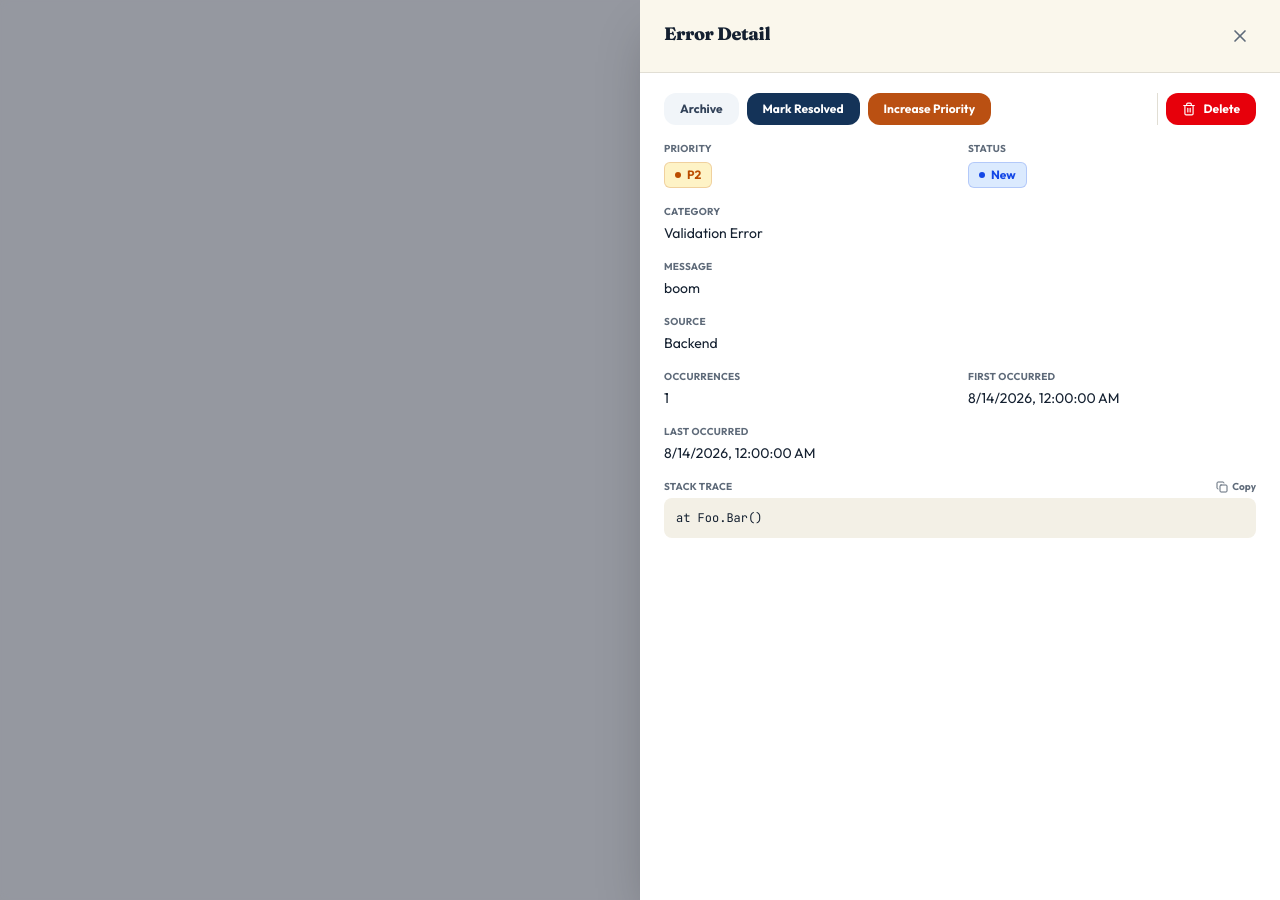
Test case: ErrorDetailPanel › shows an inline error and leaves the detail intact when an action fails
Check: the text "boom" is shown, box [664, 279, 700, 297]
Click the button "Archive" at (701, 109), box [664, 93, 738, 125]
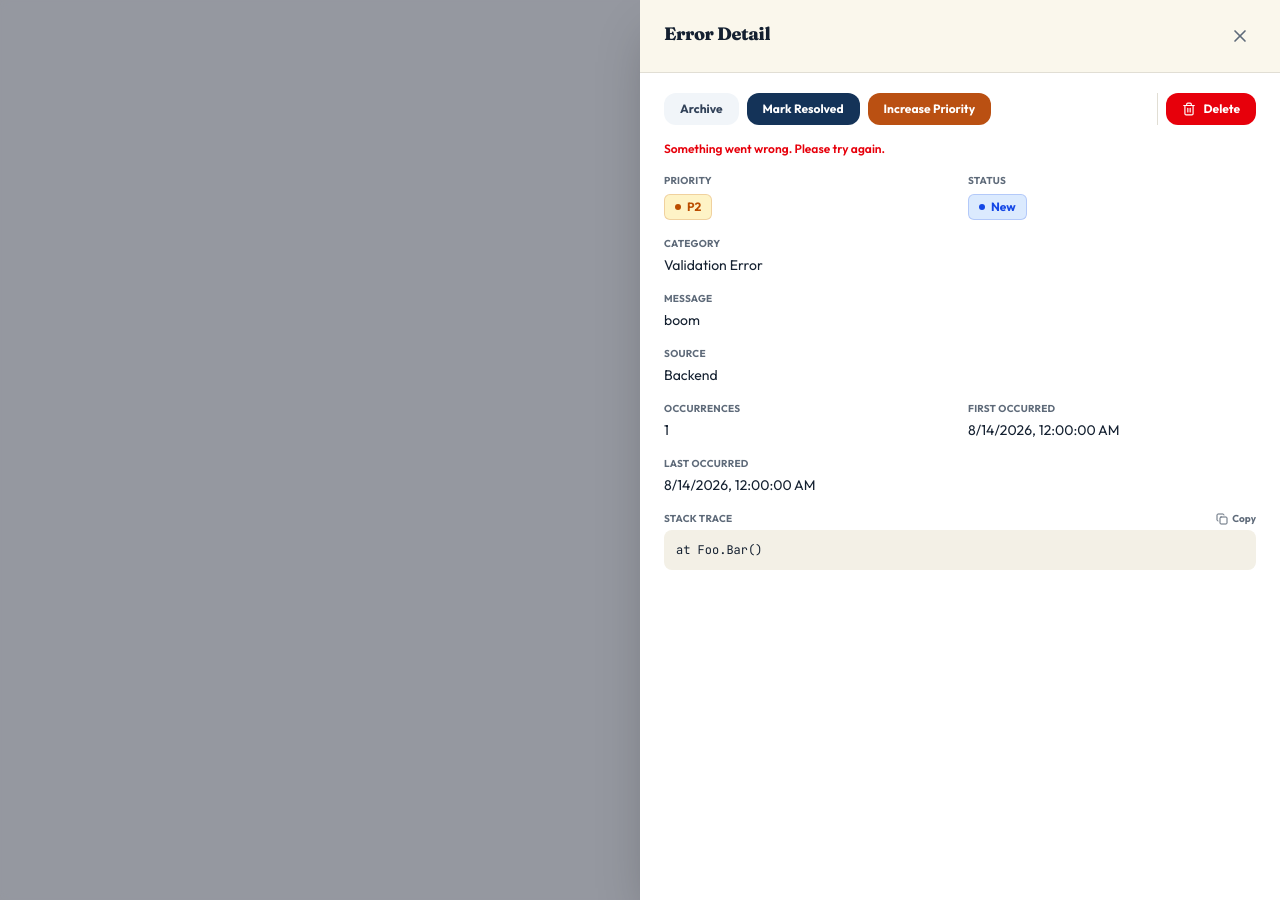
Check: the text "boom" is shown, box [664, 311, 700, 329]
Check: the message reads "Something went wrong. Please try again.", box [664, 141, 885, 156]
